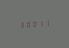one: (36, 19, 41, 27), (42, 19, 47, 27)
three: (18, 21, 23, 28)
zero: (24, 20, 29, 28), (30, 20, 35, 27)
